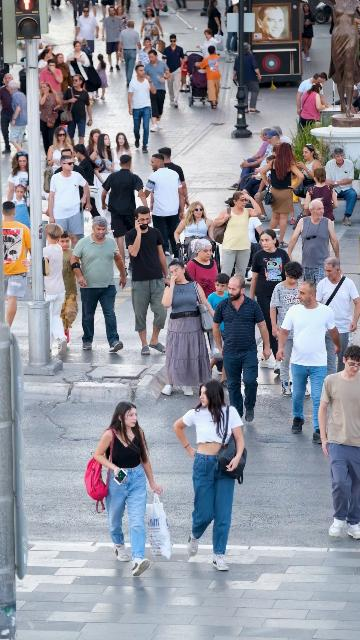person: (173, 379, 246, 572), (92, 401, 163, 577), (276, 281, 342, 445), (212, 276, 272, 422), (318, 345, 360, 540), (70, 216, 127, 353), (160, 258, 215, 397), (124, 206, 171, 356), (22, 223, 68, 358), (249, 229, 293, 369), (101, 154, 148, 275), (315, 257, 360, 376), (269, 261, 306, 399), (287, 198, 340, 288), (260, 143, 305, 248), (143, 153, 186, 260), (212, 191, 263, 281), (46, 154, 92, 249), (225, 130, 281, 204), (2, 201, 32, 331), (226, 127, 272, 191), (325, 148, 359, 226), (128, 64, 157, 154), (142, 50, 171, 131), (242, 156, 277, 222), (61, 74, 93, 146), (300, 167, 339, 225), (65, 41, 99, 105), (174, 201, 215, 253), (185, 239, 219, 301), (44, 126, 75, 194), (157, 147, 189, 212), (233, 42, 262, 113), (39, 82, 64, 162), (294, 143, 325, 199), (12, 184, 48, 232), (162, 34, 185, 108), (0, 73, 21, 154), (195, 46, 222, 109), (117, 20, 141, 89), (6, 79, 28, 154), (73, 8, 99, 66), (298, 82, 328, 132), (102, 7, 123, 73), (296, 72, 328, 115), (89, 133, 115, 184), (6, 151, 29, 203), (139, 8, 164, 52), (196, 28, 222, 65), (207, 273, 230, 313), (39, 59, 64, 93), (112, 132, 132, 172), (93, 54, 109, 100), (54, 53, 71, 93), (206, 0, 224, 37), (137, 37, 156, 68), (248, 210, 263, 244), (38, 49, 53, 81), (180, 54, 191, 92), (86, 128, 102, 154), (77, 36, 91, 54), (44, 45, 53, 59)
